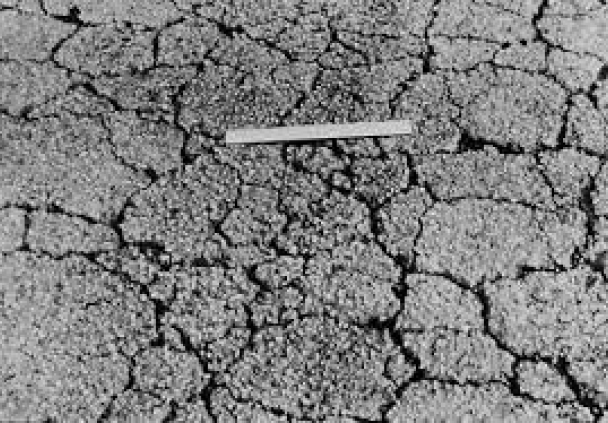Retak Buaya: (1, 146, 608, 423), (1, 1, 608, 120), (1, 111, 226, 153), (411, 110, 608, 151)
